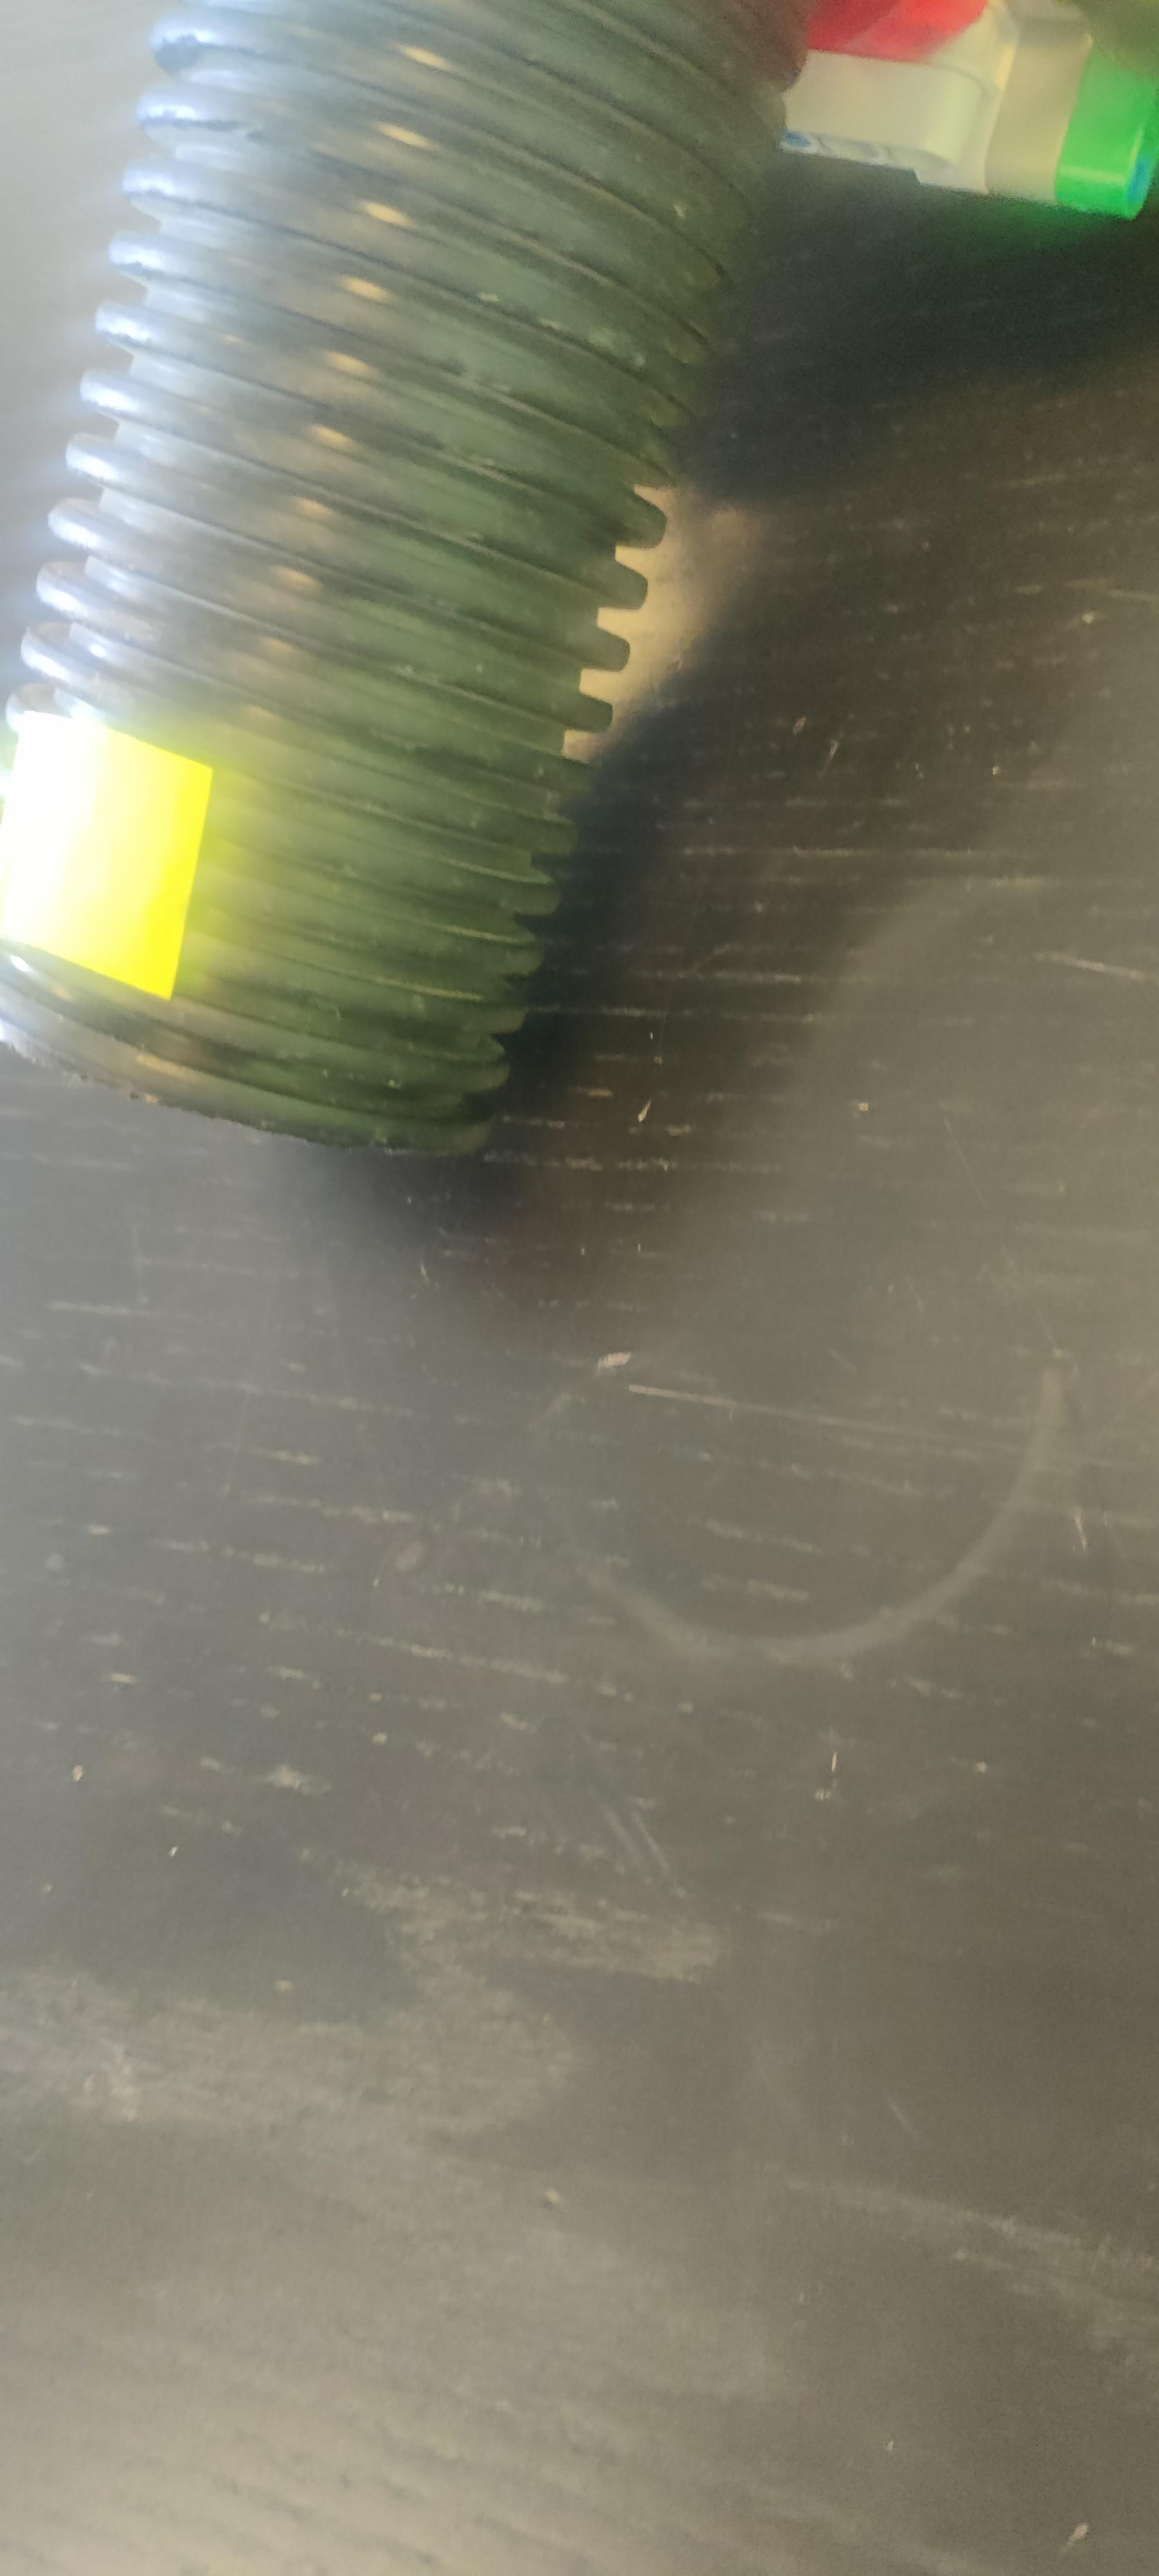robot-front: (0, 7, 770, 1150)
